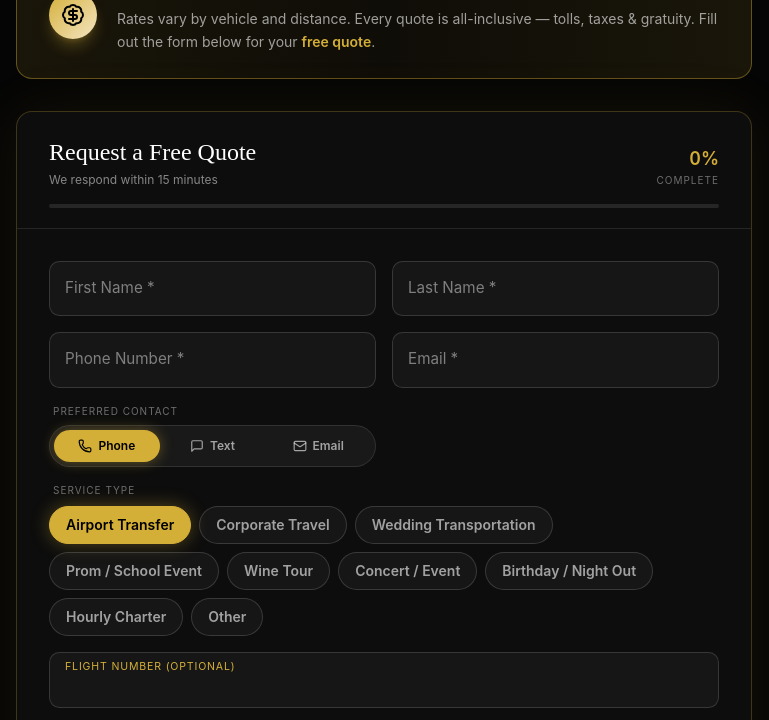
phone field drops letters and keeps digits
The image size is (769, 720).
(page scrolled)
Type "John Doe 4a1b0c 555-12x34" into the field with test id "booking-phone" at (212, 360), box [49, 332, 376, 388]
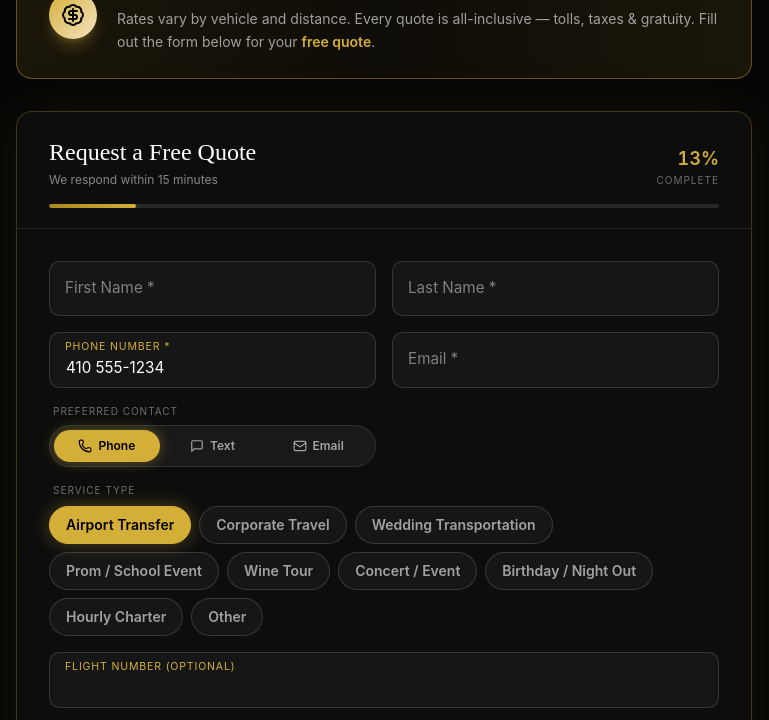
Check: the field with test id "booking-phone" holds "410 555-1234", box [49, 332, 376, 388]
